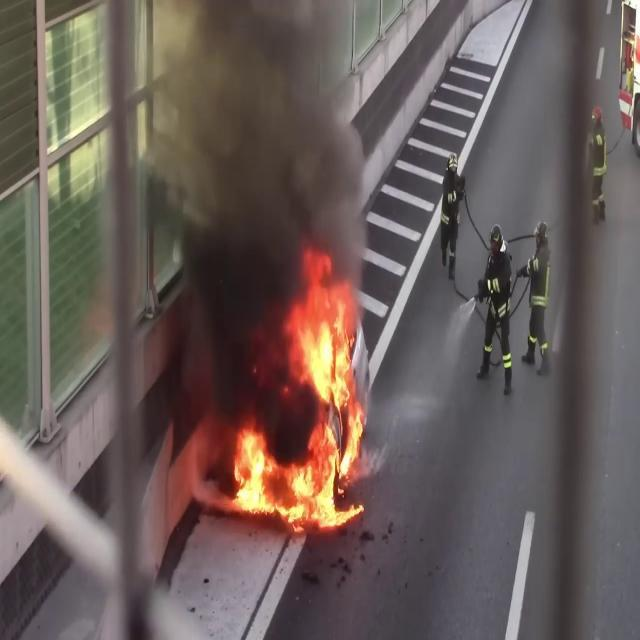Fire: (227, 257, 368, 531)
Smoke: (140, 1, 372, 332)
